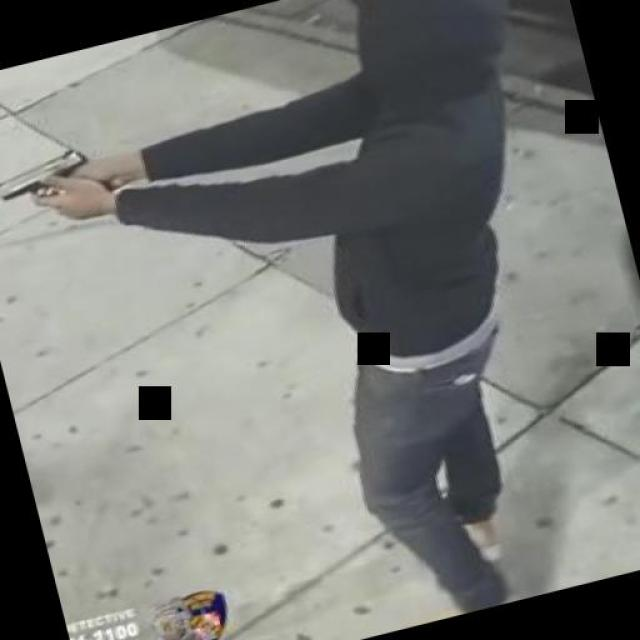gun: (0, 136, 124, 242)
